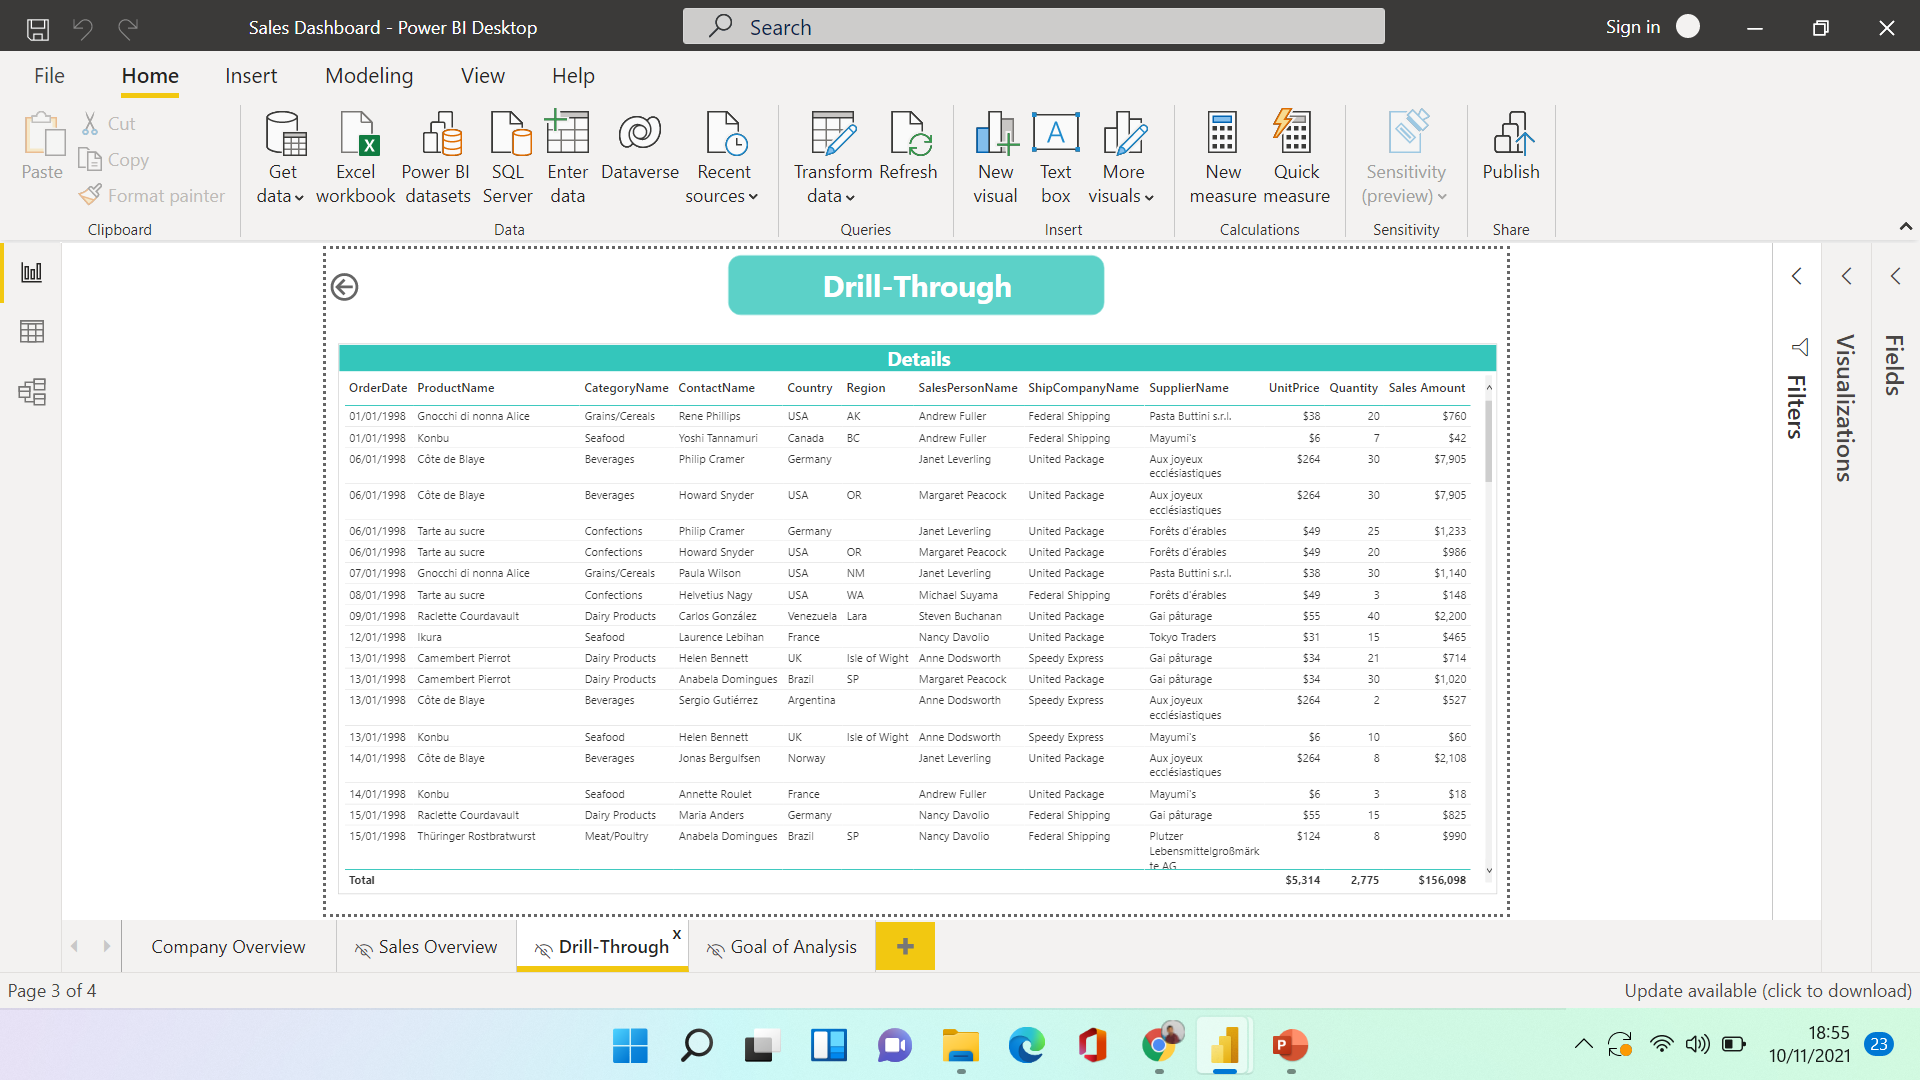

The page's visual inventory and layout, read from the dashboard file:
{"tool":"powerbi","page":{"name":"Drill Through","canvas":[1280,720],"ordinal":4},"visuals":[{"type":"shape","box":[210.7,637,1060,83],"z":0},{"type":"shape","box":[210.7,118.1,1060,518.8],"z":1000},{"type":"shape","box":[210.7,0,1060,114.9],"z":2000},{"type":"card","title":"Total Revenue","fields":{"Values":["Measures_Table.Total Revenue"]},"box":[255.4,9.6,153.3,94.2],"z":3000},{"type":"card","title":"Profit Percentage","fields":{"Values":["Measures_Table.Profit Percentage"]},"box":[676.9,9.6,145.3,94.2],"z":4000},{"type":"card","title":"No. of Products","fields":{"Values":["MainData_Table.Product"]},"box":[1079.2,9.6,146.9,94.2],"z":5000},{"type":"card","title":"Total Units Sold","fields":{"Values":["Measures_Table.Total Units Sold"]},"box":[870.1,9.6,159.6,94.2],"z":6000},{"type":"card","title":"Total Profit","fields":{"Values":["Measures_Table.Total Profit"]},"box":[471,9.6,142.1,94.2],"z":7000},{"type":"shape","box":[0,0,199.6,696.1],"z":8000},{"type":"textbox","box":[0,22.4,191.6,81.4],"z":9000},{"type":"textbox","box":[8,287.4,178.8,47.9],"z":10000},{"type":"textbox","box":[11.2,205.9,178.8,47.9],"z":11000},{"type":"textbox","box":[11.2,134.1,178.8,47.9],"z":12000},{"type":"textbox","box":[39.9,577.9,116.5,59.1],"z":13000},{"type":"slicer","title":"Month","fields":{"Values":["Date_Table.Month"]},"box":[228.3,637,164.4,71.8],"z":14000},{"type":"slicer","title":"Quarter","fields":{"Values":["Date_Table.Quarter"]},"box":[408.7,637,151.7,71.8],"z":15000},{"type":"slicer","title":"Year","fields":{"Values":["Date_Table.Year"]},"box":[574.7,637,146.9,71.8],"z":16000},{"type":"slicer","title":"Product","fields":{"Values":["MainData_Table.Product"]},"box":[740.8,637,151.7,71.8],"z":17000},{"type":"slicer","title":"Segment","fields":{"Values":["MainData_Table.Segment"]},"box":[908.4,637,151.7,71.8],"z":18000},{"type":"actionButton","box":[39.9,577.9,116.5,59.1],"z":19000},{"type":"actionButton","box":[11.2,134.1,178.8,49.5],"z":20000},{"type":"actionButton","box":[11.2,204.3,178.8,49.5],"z":21000},{"type":"actionButton","box":[11.2,285.8,178.8,49.5],"z":22000},{"type":"slicer","title":"Country","fields":{"Values":["MainData_Table.Country"]},"box":[1074.4,637,151.7,71.8],"z":23000},{"type":"textbox","box":[9.6,352.8,178.8,47.9],"z":24000},{"type":"textbox","box":[11.2,424.7,178.8,47.9],"z":25000},{"type":"textbox","box":[11.2,501.3,178.8,47.9],"z":26000},{"type":"actionButton","box":[11.2,423.1,177.2,51.1],"z":27000},{"type":"actionButton","box":[11.2,352.8,177.2,51.1],"z":28000},{"type":"actionButton","box":[9.6,498.1,177.2,51.1],"z":29000},{"type":"tableEx","fields":{"Values":["MainData_Table.Product1","MainData_Table.Country","MainData_Table.Product","MainData_Table.Segment1","Measures_Table.Total Units Sold","Measures_Table.Total Expenses","Measures_Table.Total Revenue","Measures_Table.Total Profit"]},"box":[348,134.1,785.5,502.9],"z":30000}]}

Visuals, with their boxes on the page's 1280x720 design canvas (x1, y1, x2, y2). These are canvas units, not pixel positions in the 1920x1080 screenshot, which may show the page scaled, cropped or inside an application window:
shape: <bbox>211, 637, 1271, 720</bbox>
shape: <bbox>211, 118, 1271, 637</bbox>
shape: <bbox>211, 0, 1271, 115</bbox>
"Total Revenue" card: <bbox>255, 10, 409, 104</bbox>
"Profit Percentage" card: <bbox>677, 10, 822, 104</bbox>
"No. of Products" card: <bbox>1079, 10, 1226, 104</bbox>
"Total Units Sold" card: <bbox>870, 10, 1030, 104</bbox>
"Total Profit" card: <bbox>471, 10, 613, 104</bbox>
shape: <bbox>0, 0, 200, 696</bbox>
textbox: <bbox>0, 22, 192, 104</bbox>
textbox: <bbox>8, 287, 187, 335</bbox>
textbox: <bbox>11, 206, 190, 254</bbox>
textbox: <bbox>11, 134, 190, 182</bbox>
textbox: <bbox>40, 578, 156, 637</bbox>
"Month" slicer: <bbox>228, 637, 393, 709</bbox>
"Quarter" slicer: <bbox>409, 637, 560, 709</bbox>
"Year" slicer: <bbox>575, 637, 722, 709</bbox>
"Product" slicer: <bbox>741, 637, 892, 709</bbox>
"Segment" slicer: <bbox>908, 637, 1060, 709</bbox>
actionButton: <bbox>40, 578, 156, 637</bbox>
actionButton: <bbox>11, 134, 190, 184</bbox>
actionButton: <bbox>11, 204, 190, 254</bbox>
actionButton: <bbox>11, 286, 190, 335</bbox>
"Country" slicer: <bbox>1074, 637, 1226, 709</bbox>
textbox: <bbox>10, 353, 188, 401</bbox>
textbox: <bbox>11, 425, 190, 473</bbox>
textbox: <bbox>11, 501, 190, 549</bbox>
actionButton: <bbox>11, 423, 188, 474</bbox>
actionButton: <bbox>11, 353, 188, 404</bbox>
actionButton: <bbox>10, 498, 187, 549</bbox>
tableEx - MainData_Table.Product1 x MainData_Table.Country: <bbox>348, 134, 1134, 637</bbox>
